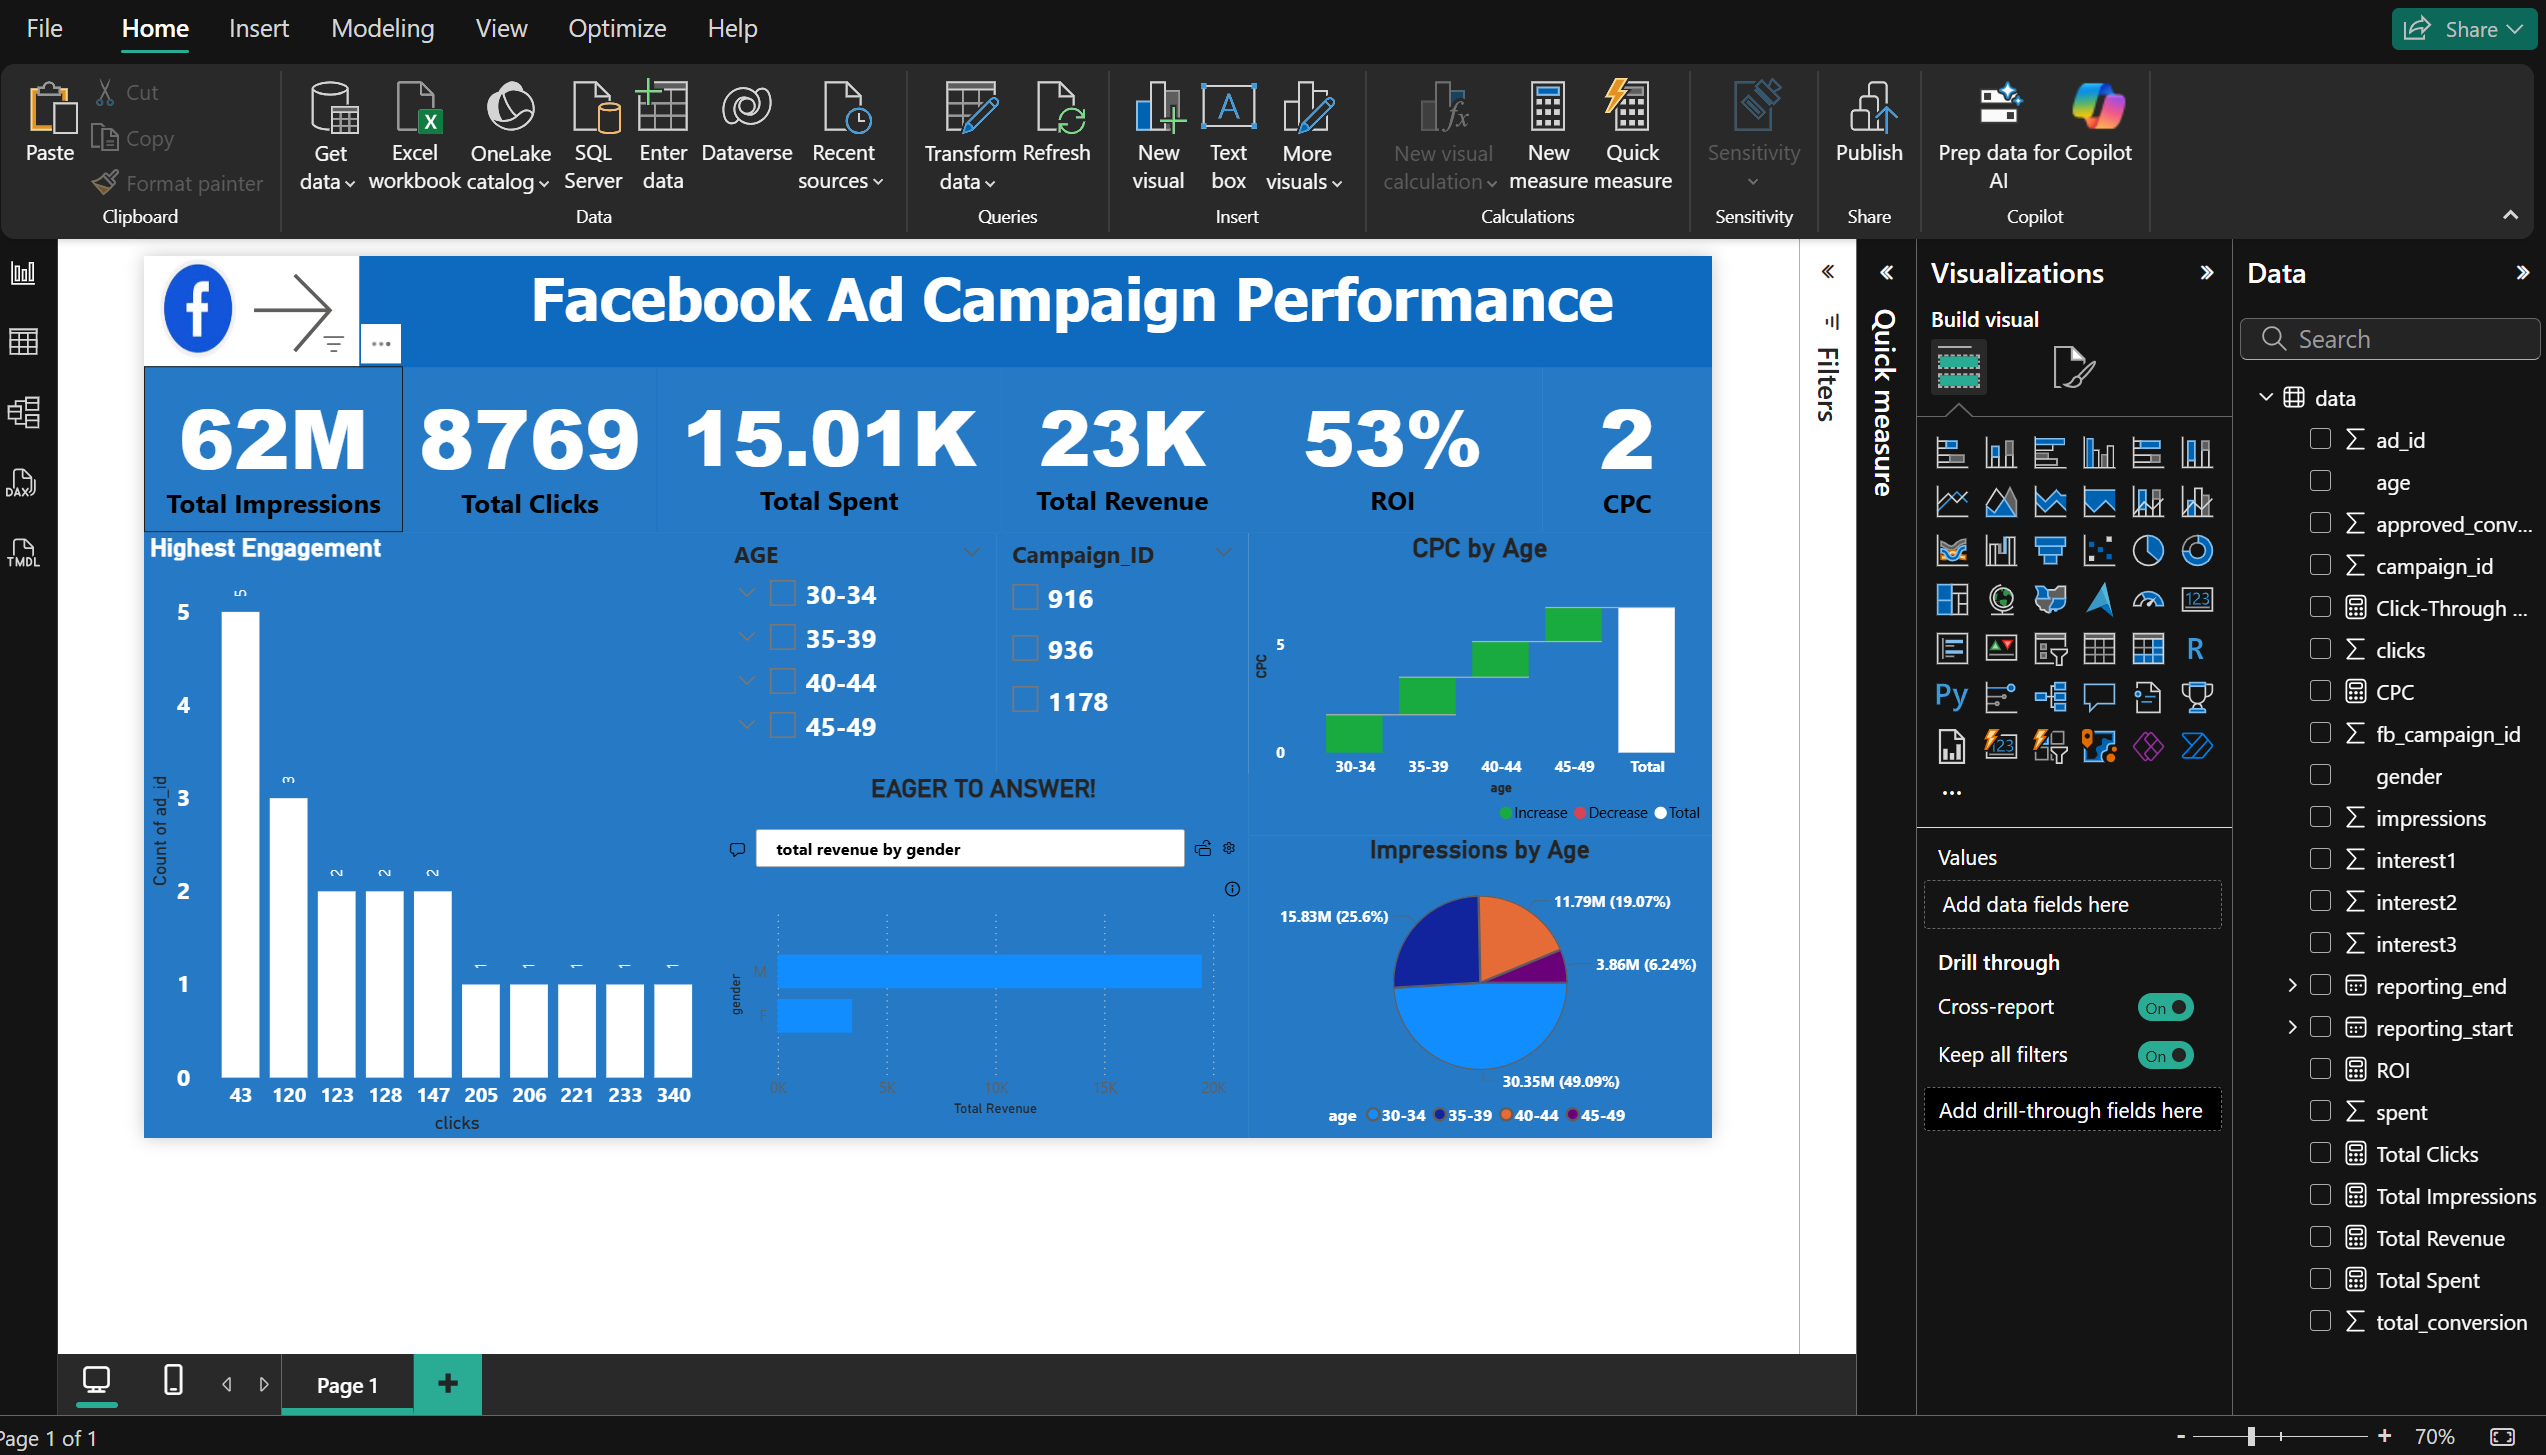

What the dashboard file says about the page in this screenshot:
{"tool":"powerbi","page":{"name":"Page 1","canvas":[1280,720],"ordinal":0},"visuals":[{"type":"textbox","box":[175.4,0,1104.4,90.7],"z":0},{"type":"card","fields":{"Values":["data.Total Clicks"]},"box":[211.4,90,207.1,135.7],"z":1000},{"type":"card","title":"Total Impressions","fields":{"Values":["data.Total Impressions"]},"box":[0,90,211.4,135.7],"z":2000},{"type":"card","fields":{"Values":["data.Total Spent"]},"box":[418.6,90,281.4,135.7],"z":3000},{"type":"image","box":[0,0,98.1,92.2],"z":4000},{"type":"actionButton","box":[81.8,1.5,78.8,90.7],"z":5000},{"type":"columnChart","title":"Highest Engagement","fields":{"Category":["data.clicks"],"Y":["data.ad_id"]},"box":[0,225.7,468.6,494.3],"z":6000},{"type":"card","fields":{"Values":["data.Total Revenue"]},"box":[700,90,197.1,135.7],"z":7000},{"type":"slicer","fields":{"Values":["data.age","data.gender"]},"box":[468.6,225.7,227.1,197.1],"z":8000},{"type":"slicer","fields":{"Values":["data.campaign_id"]},"box":[695.7,225.7,205.7,197.1],"z":9000},{"type":"card","fields":{"Values":["data.ROI"]},"box":[897.1,90,244.3,135.7],"z":10000},{"type":"card","fields":{"Values":["data.CPC"]},"box":[1141.4,90,138.6,135.7],"z":11000},{"type":"qnaVisual","title":"EAGER TO ANSWER!","box":[468.6,422.9,432.9,297.1],"z":12000},{"type":"waterfallChart","title":"CPC by Age","fields":{"Category":["data.age"],"Y":["data.CPC"]},"box":[901.4,225.7,378.6,247.1],"z":13000},{"type":"pieChart","title":"Impressions by Age","fields":{"Category":["data.age"],"Y":["data.impressions"]},"box":[901.4,472.9,378.6,247.1],"z":14000}]}

Visuals, with their boxes on the page's 1280x720 design canvas (x1, y1, x2, y2). These are canvas units, not pixel positions in the 2546x1455 screenshot, which may show the page scaled, cropped or inside an application window:
textbox: {"left": 175, "top": 0, "right": 1280, "bottom": 91}
card - data.Total Clicks: {"left": 211, "top": 90, "right": 418, "bottom": 226}
"Total Impressions" card: {"left": 0, "top": 90, "right": 211, "bottom": 226}
card - data.Total Spent: {"left": 419, "top": 90, "right": 700, "bottom": 226}
image: {"left": 0, "top": 0, "right": 98, "bottom": 92}
actionButton: {"left": 82, "top": 2, "right": 161, "bottom": 92}
"Highest Engagement" columnChart: {"left": 0, "top": 226, "right": 469, "bottom": 720}
card - data.Total Revenue: {"left": 700, "top": 90, "right": 897, "bottom": 226}
slicer - data.age x data.gender: {"left": 469, "top": 226, "right": 696, "bottom": 423}
slicer - data.campaign_id: {"left": 696, "top": 226, "right": 901, "bottom": 423}
card - data.ROI: {"left": 897, "top": 90, "right": 1141, "bottom": 226}
card - data.CPC: {"left": 1141, "top": 90, "right": 1280, "bottom": 226}
"EAGER TO ANSWER!" qnaVisual: {"left": 469, "top": 423, "right": 902, "bottom": 720}
"CPC by Age" waterfallChart: {"left": 901, "top": 226, "right": 1280, "bottom": 473}
"Impressions by Age" pieChart: {"left": 901, "top": 473, "right": 1280, "bottom": 720}
